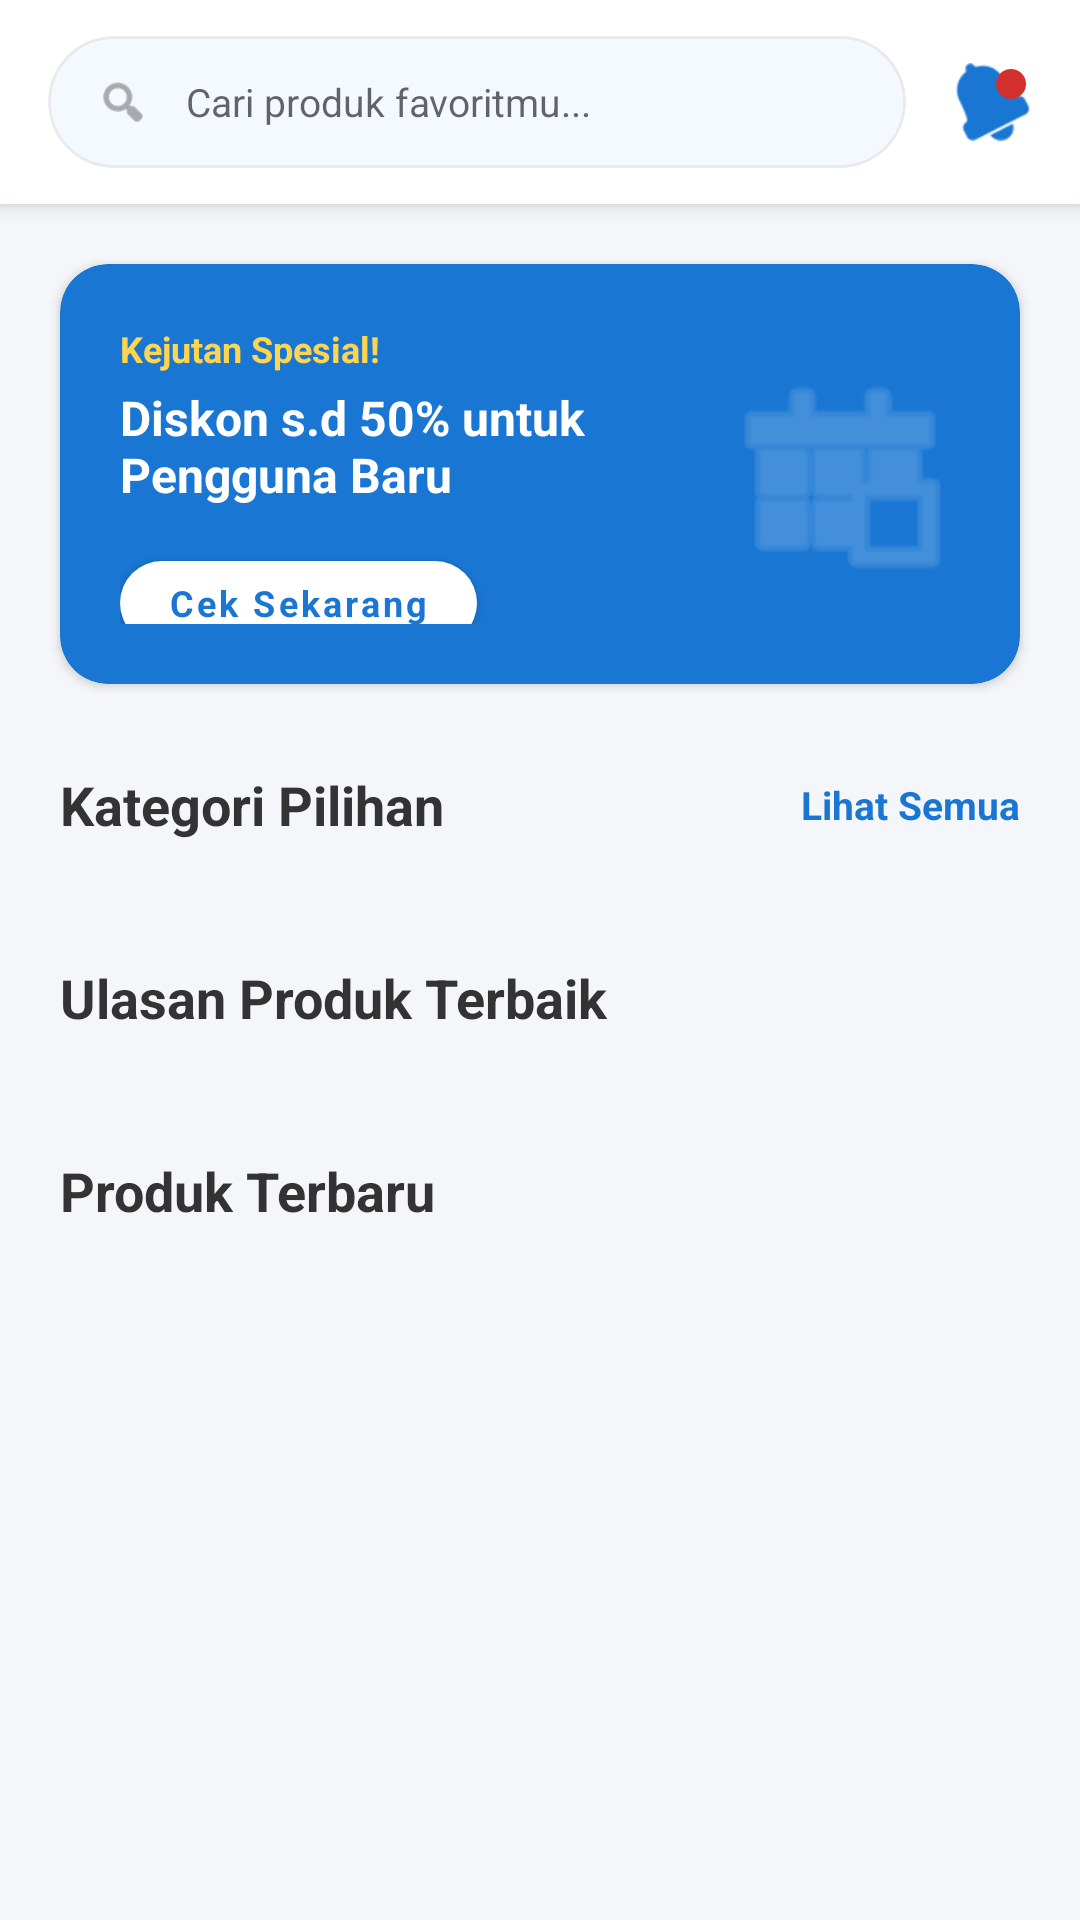

Icons on this 1080px x 1920px Android screen, each with its box as {"x1": x1, "y1": y1, "x2": x2, "y2": y2}:
popup reminder: {"x1": 956, "y1": 63, "x2": 1030, "y2": 141}
search: {"x1": 103, "y1": 82, "x2": 143, "y2": 122}
today: {"x1": 746, "y1": 389, "x2": 939, "y2": 566}
